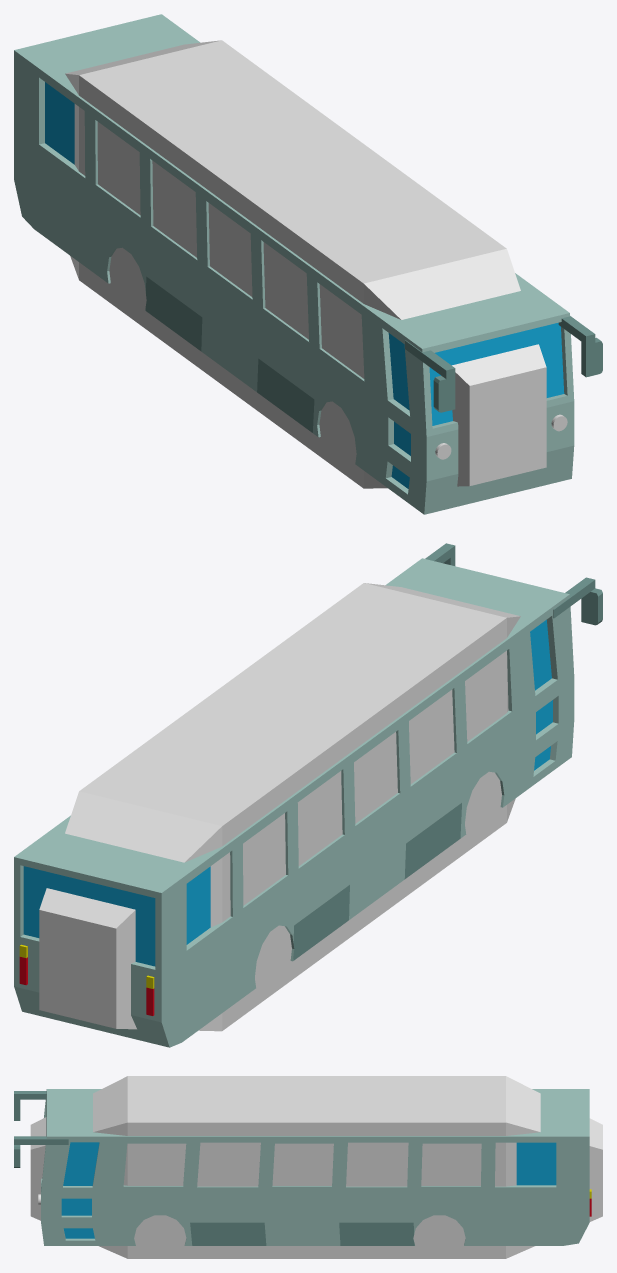
File: AI_Bus.fbx
3 renders of one model, top to bottom at view 1: azimuth 30°, elevation 25°; view 2: azimuth 150°, elevation 25°; view 3: azimuth 270°, elevation 25°, orthographic. The views are drawn at different scales.
Visible parts, largest first — view 1: car physic .003, bus; view 2: car physic .003, bus; view 3: car physic .003, bus.
Boxes of the visible parts, bbox=[...] form: car physic .003: bbox=[65, 40, 546, 488]; bus: bbox=[14, 14, 602, 514]; car physic .003: bbox=[39, 583, 520, 1031]; bus: bbox=[14, 543, 602, 1047]; car physic .003: bbox=[30, 1076, 602, 1258]; bus: bbox=[14, 1089, 591, 1245].
Bounding box in the file's own units: 48.08 × 57.29 × 224.
